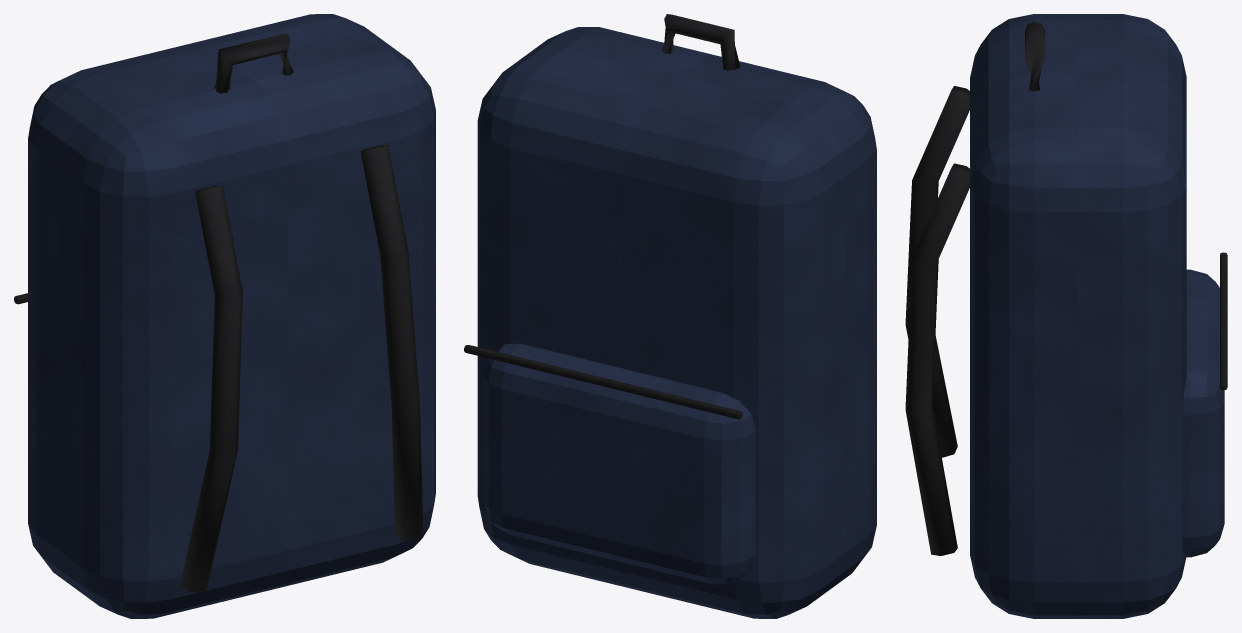
File: backpack_small.glb
3 renders of one model, left to right at view 1: azimuth 30°, elevation 25°; view 2: azimuth 150°, elevation 25°; view 3: azimuth 270°, elevation 25°, orthographic. The views are drawn at different scales.
Visible parts, largest first — view 1: body, strap-1, strap1, handle; view 2: body, pocket, zip, handle; view 3: body, pocket, strap1, strap-1, handle, zip.
Boxes of the visible parts, x1,y1,x2,y2 form: body: (28, 14, 435, 618); strap-1: (180, 185, 242, 592); strap1: (360, 145, 423, 541); handle: (214, 33, 293, 93); body: (477, 27, 876, 618); pocket: (484, 343, 755, 584); zip: (464, 345, 742, 419); handle: (661, 14, 740, 70); body: (970, 14, 1186, 618); pocket: (1182, 269, 1224, 557); strap1: (905, 163, 969, 555); strap-1: (905, 86, 969, 457); handle: (1025, 21, 1045, 91); zip: (1220, 252, 1227, 389).
Size of the model in its own units: 0.3 by 0.4517 by 0.2525.
Materials: 3 (3 with a texture image).
